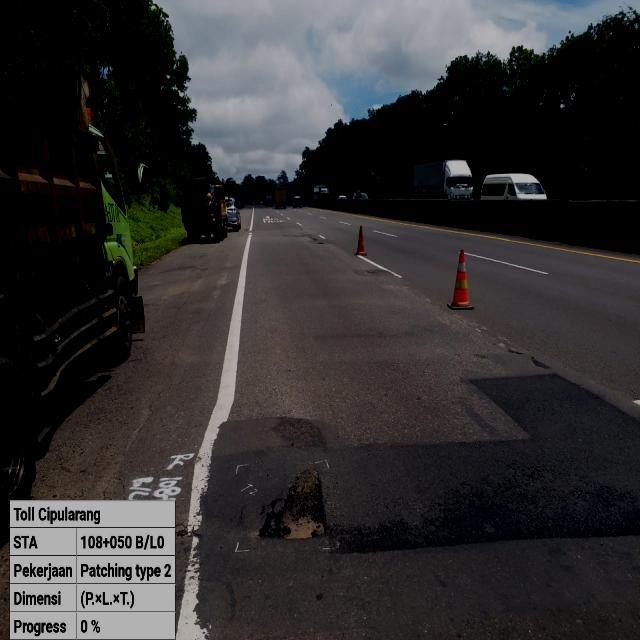Buraco: (254, 466, 335, 544), (528, 355, 554, 371), (505, 347, 527, 357), (362, 268, 379, 276), (310, 236, 320, 242), (315, 241, 326, 246)
